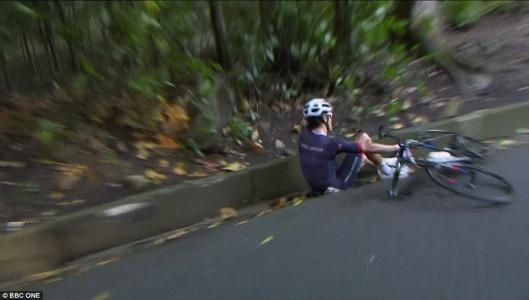falling: (292, 92, 417, 197)
